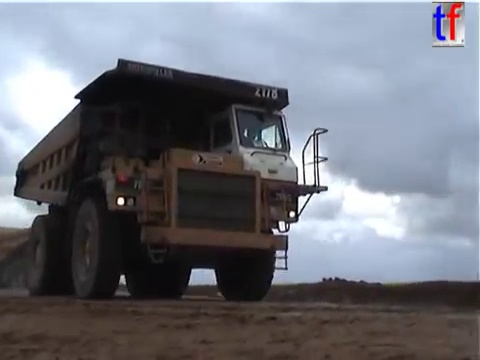truck: (10, 54, 333, 304), (1, 225, 74, 299)
